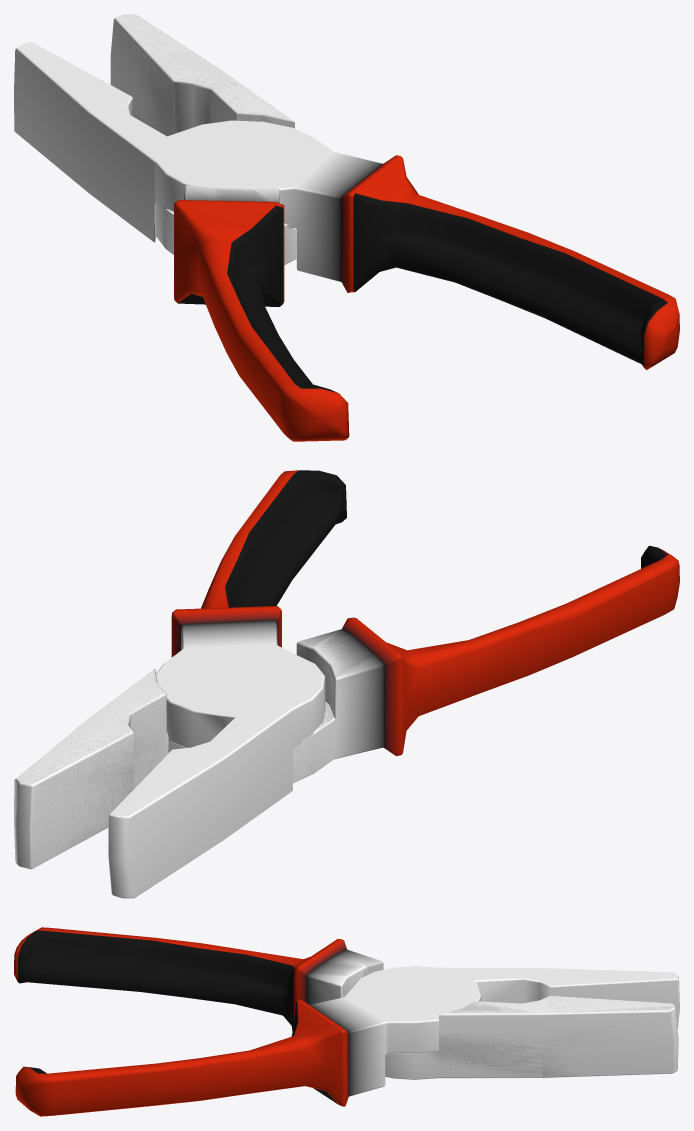
The model's file is SM_Pilers.fbx.
3 views of the same model, one above another, from view 1: azimuth 30°, elevation 25°; view 2: azimuth 150°, elevation 25°; view 3: azimuth 270°, elevation 25° (orthographic). The views are drawn at different scales.
Parts seen in each view (by area): view 1: SM_Piler1, SM_Piler2, SM_PilerCombined; view 2: SM_Piler1, SM_Piler2, SM_PilerCombined; view 3: SM_Piler2, SM_Piler1, SM_PilerCombined.
Boxes of the visible parts, x1=… form: SM_Piler1: x1=14, y1=42, x2=679, y2=370; SM_Piler2: x1=110, y1=14, x2=349, y2=441; SM_PilerCombined: x1=111, y1=14, x2=344, y2=441; SM_Piler1: x1=108, y1=470, x2=346, y2=898; SM_Piler2: x1=14, y1=547, x2=679, y2=869; SM_PilerCombined: x1=18, y1=545, x2=676, y2=866; SM_Piler2: x1=14, y1=927, x2=678, y2=1079; SM_Piler1: x1=15, y1=966, x2=679, y2=1116; SM_PilerCombined: x1=17, y1=927, x2=678, y2=1078.
Size of the model in its own units: 9.83 by 2.62 by 18.51.
